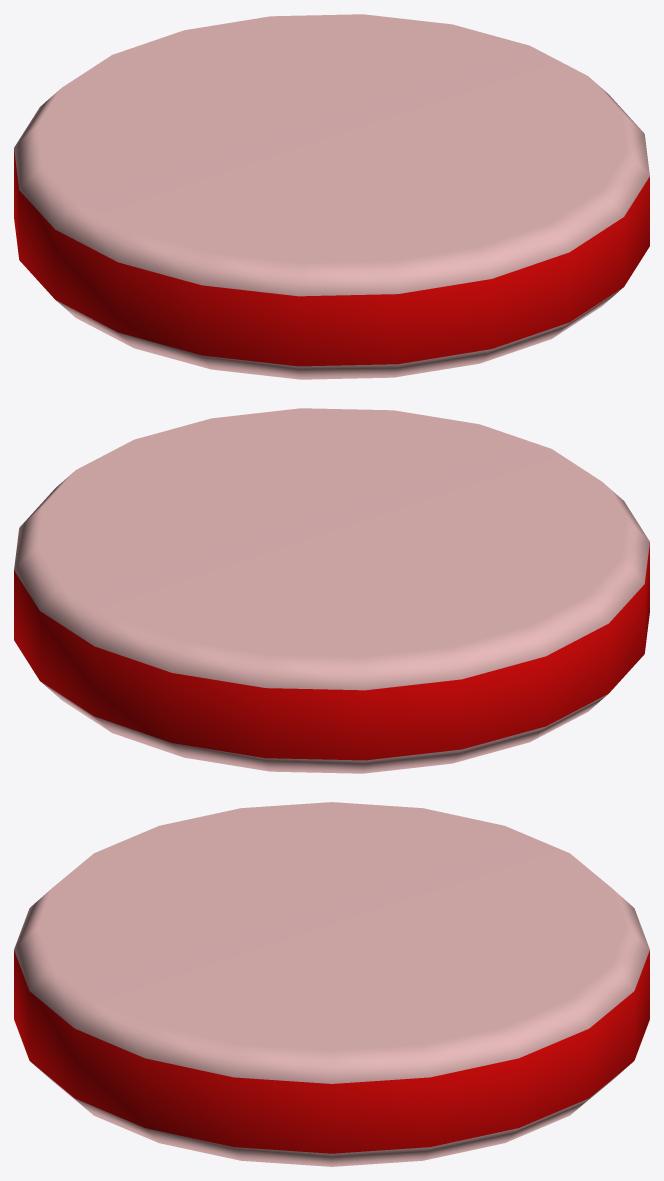
The model's file is fruit_circle.fbx.
3 views of the same model, one above another, from view 1: azimuth 30°, elevation 25°; view 2: azimuth 150°, elevation 25°; view 3: azimuth 270°, elevation 25° (orthographic).
Parts seen in each view (by area): view 1: fruit_circle; view 2: fruit_circle; view 3: fruit_circle.
Boxes of the visible parts, x1,y1,x2,y2 form: fruit_circle: (14,14,649,379); fruit_circle: (14,408,649,773); fruit_circle: (14,802,649,1166).
Size of the model in its own units: 4.22 by 0.8512 by 4.22.
